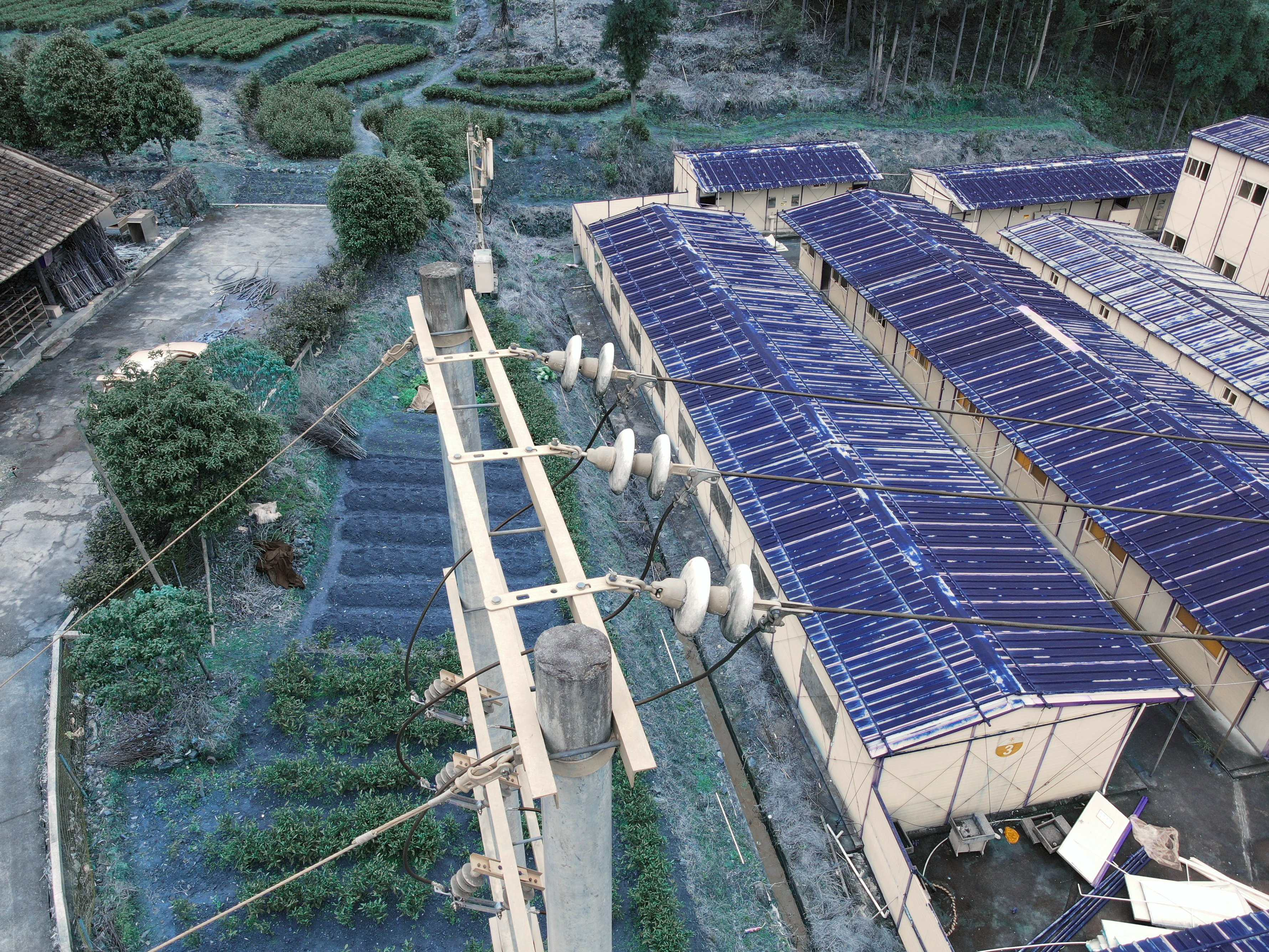severe_soiling_no_discharge_whole: (652, 555, 759, 646), (589, 425, 675, 501), (546, 333, 618, 402)
